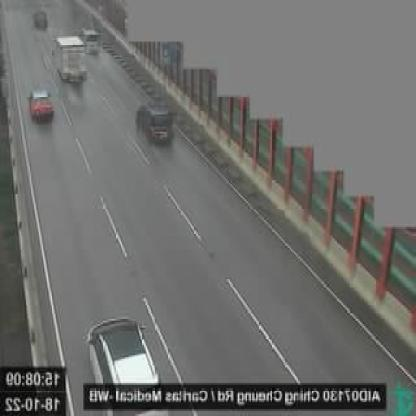Car: (83, 318, 174, 414), (135, 100, 174, 147), (27, 88, 54, 124), (77, 28, 100, 55), (32, 9, 49, 30)
Truck: (55, 35, 86, 87)
